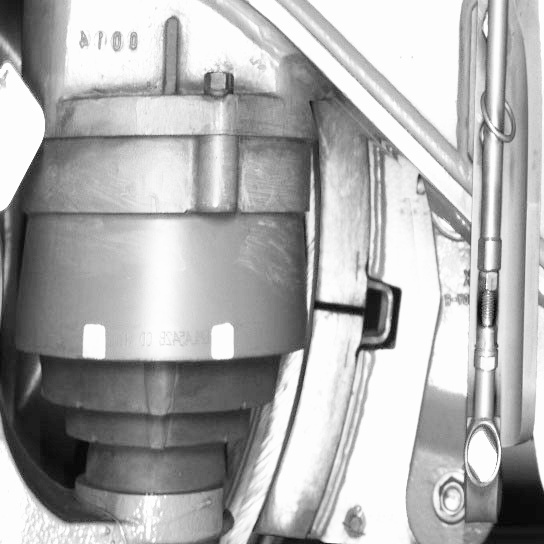ClosedKnifeSwitch: (243, 136, 366, 541)
